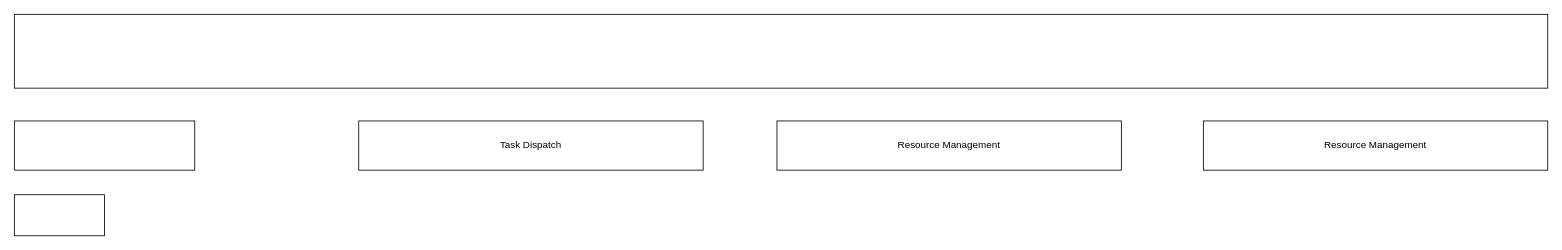
This 1562x250 diagram has some shape labels left out. Each missing label, with the centre of its shape:
"Init" belongs at pixel 104 145.
"SDAART" belongs at pixel 781 51.
